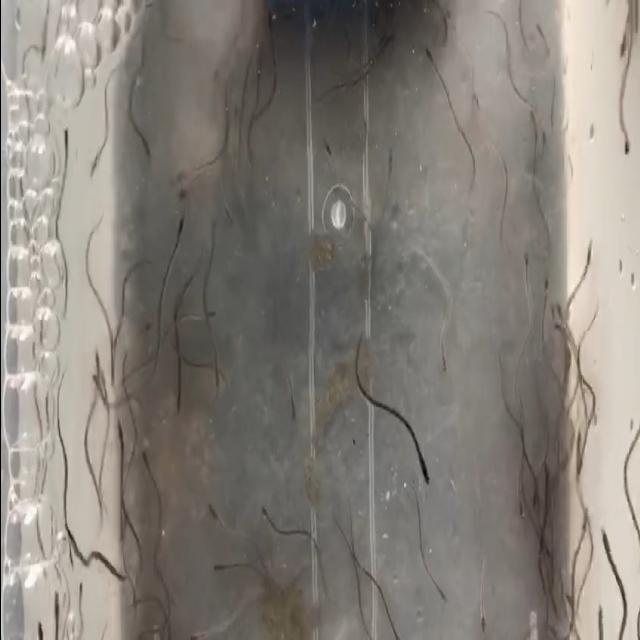active_glass_eel: (576, 502, 594, 552), (208, 548, 232, 583), (58, 108, 78, 150), (106, 336, 122, 386), (34, 550, 54, 589), (254, 498, 276, 532), (593, 591, 608, 640), (46, 580, 61, 628), (134, 300, 150, 344), (416, 452, 430, 500), (280, 394, 301, 426), (598, 522, 616, 558), (524, 83, 540, 123), (86, 534, 102, 574), (32, 32, 48, 72), (72, 575, 88, 615), (80, 482, 92, 534), (378, 141, 396, 175), (204, 498, 223, 529), (132, 614, 154, 640), (623, 132, 637, 171), (445, 0, 458, 42), (201, 214, 222, 240), (208, 67, 224, 101), (138, 442, 153, 478), (434, 344, 450, 377), (581, 227, 593, 270), (320, 132, 336, 164), (510, 492, 524, 528), (536, 576, 554, 604), (471, 80, 483, 122), (264, 0, 280, 31), (170, 172, 186, 202), (182, 620, 206, 640), (570, 444, 584, 478), (538, 266, 552, 300), (94, 372, 108, 406), (92, 348, 106, 382), (516, 246, 534, 272), (32, 608, 46, 640), (60, 526, 80, 548), (536, 126, 548, 162), (113, 421, 125, 457), (528, 488, 544, 514), (614, 34, 626, 68), (222, 205, 235, 236), (534, 17, 546, 48), (586, 368, 598, 398), (478, 596, 488, 632), (424, 44, 436, 70), (563, 592, 573, 622), (554, 315, 564, 343)
